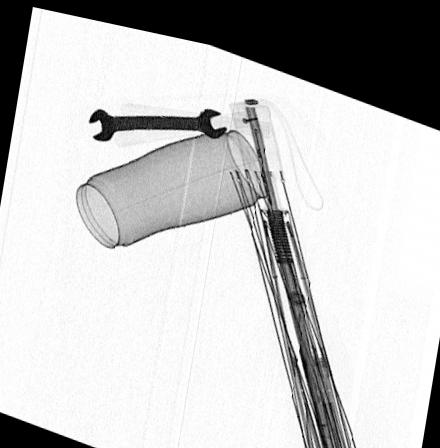Wrench: (87, 99, 227, 138)
